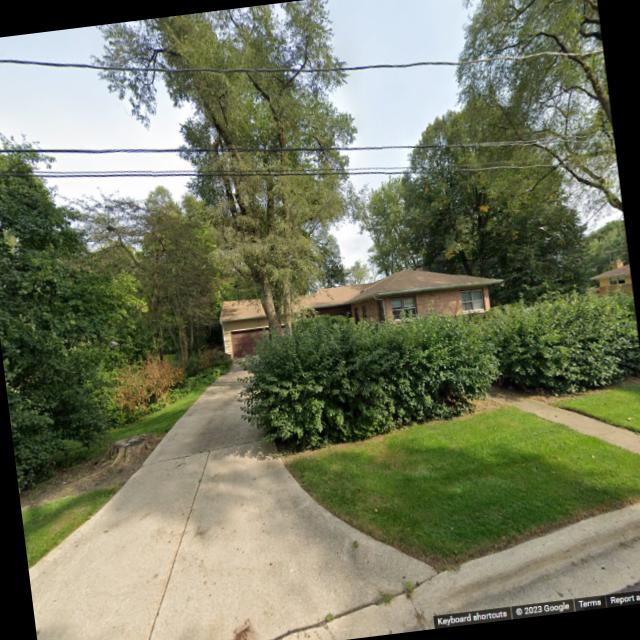House: (216, 257, 508, 361)
